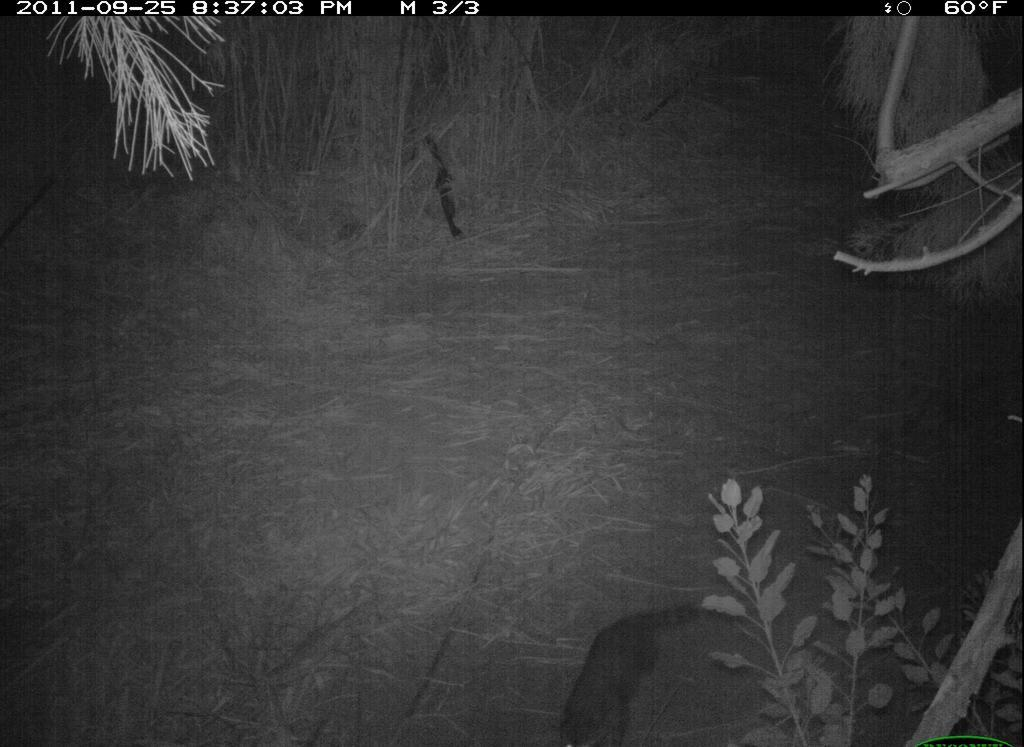raccoon: (546, 600, 705, 745)
